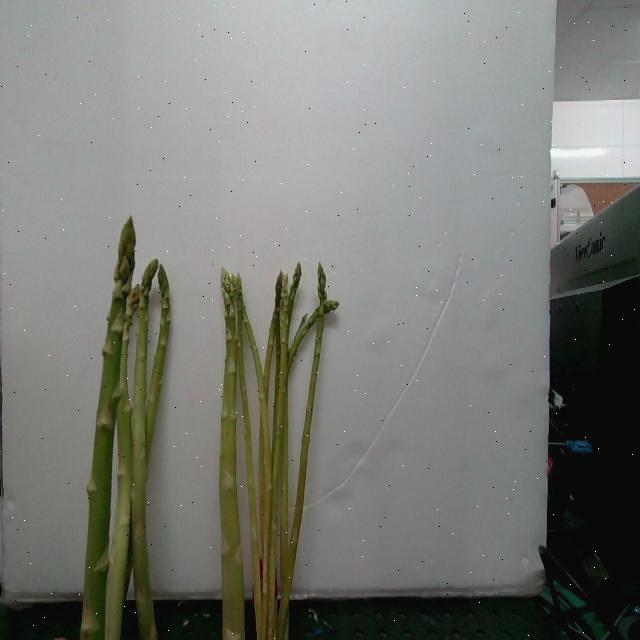aspargus: (80, 217, 138, 640)
